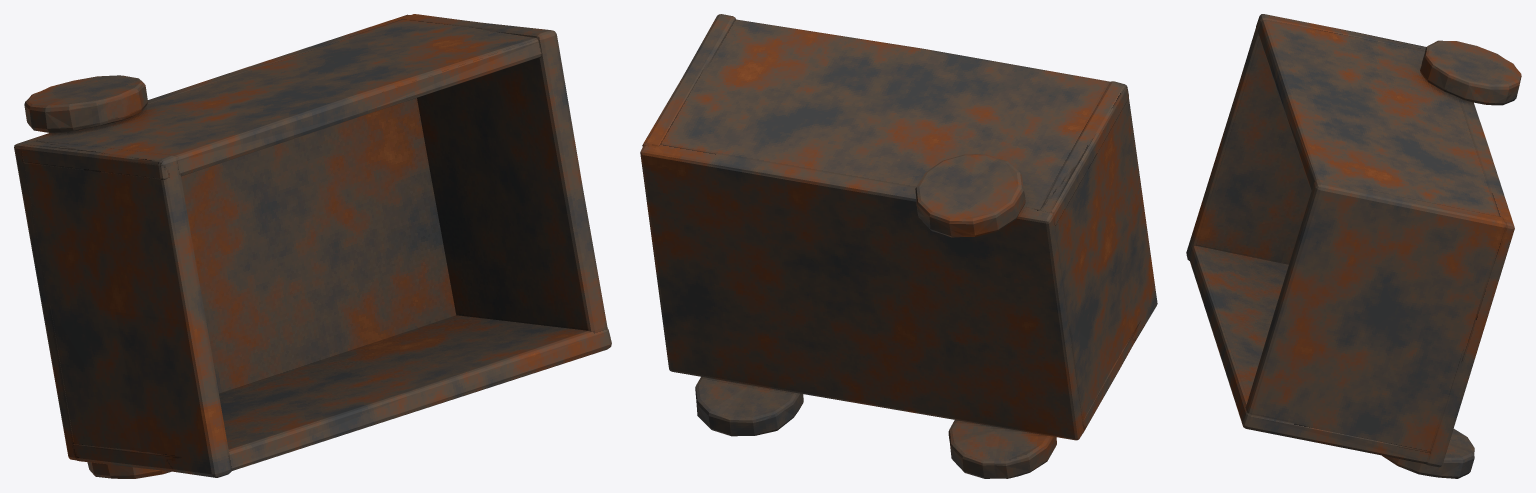
The model's file is mine_cart.glb.
3 views of the same model, side by side, from view 1: azimuth 30°, elevation 25°; view 2: azimuth 150°, elevation 25°; view 3: azimuth 270°, elevation 25° (orthographic). The views are drawn at different scales.
Visible parts, largest first — view 1: mine_cart; view 2: mine_cart; view 3: mine_cart.
Part boxes in pixels (x1,y1,x2,y2): mine_cart: [14, 14, 611, 478]; mine_cart: [640, 14, 1157, 478]; mine_cart: [1186, 14, 1521, 478].
Size of the model in its own units: 1.4 by 1.1 by 1.04.
Materials: 1 (1 with a texture image).
